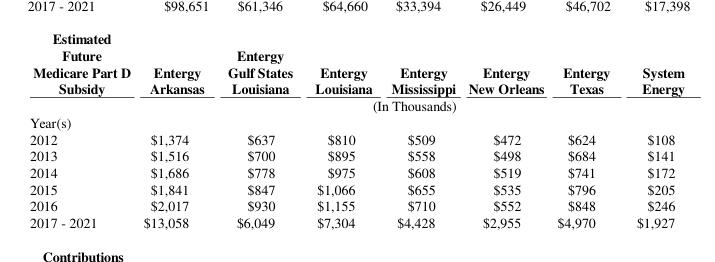table: (28, 28, 684, 230)
table column: (28, 28, 136, 230), (215, 28, 303, 230), (461, 28, 549, 230), (381, 28, 461, 230), (136, 28, 215, 230), (303, 28, 381, 230), (549, 28, 622, 230), (622, 28, 684, 230)
table column header: (28, 28, 684, 113)
table projected row header: (28, 113, 684, 129)
table row: (28, 28, 684, 96), (28, 96, 684, 113), (28, 129, 684, 146), (28, 146, 684, 163), (28, 179, 684, 196), (28, 196, 684, 213), (28, 213, 684, 230), (28, 113, 684, 129), (28, 163, 684, 179)
table spanning cell: (136, 96, 684, 113), (28, 28, 136, 113)
